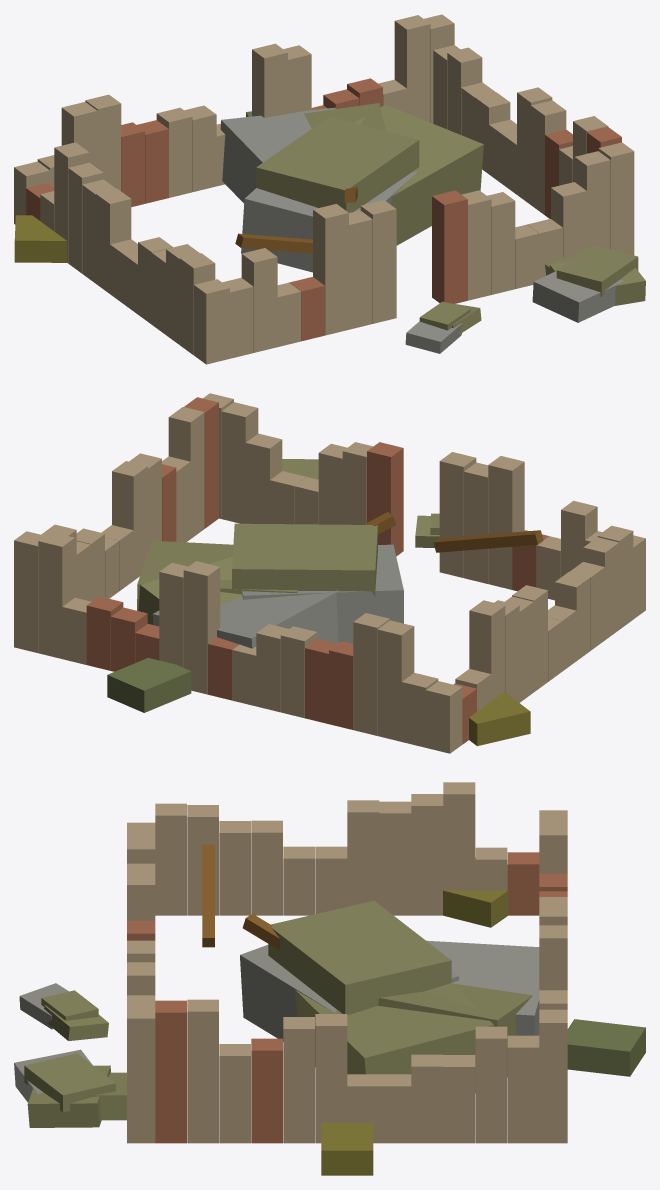
File: SM_CasaRuina_v4_Arrasada_LOD1.fbx
3 renders of one model, top to bottom at view 1: azimuth 30°, elevation 25°; view 2: azimuth 150°, elevation 25°; view 3: azimuth 270°, elevation 25°, orthographic. The views are drawn at different scales.
Parts seen in each view (by area): view 1: SM_casa_ruina_v4_LOD1; view 2: SM_casa_ruina_v4_LOD1; view 3: SM_casa_ruina_v4_LOD1.
Boxes of the visible parts, x1,y1,x2,y2 form: SM_casa_ruina_v4_LOD1: (14, 14, 645, 364); SM_casa_ruina_v4_LOD1: (14, 393, 645, 753); SM_casa_ruina_v4_LOD1: (14, 782, 645, 1175).
Bounding box in the file's own units: 11.04 × 2.47 × 10.03.
